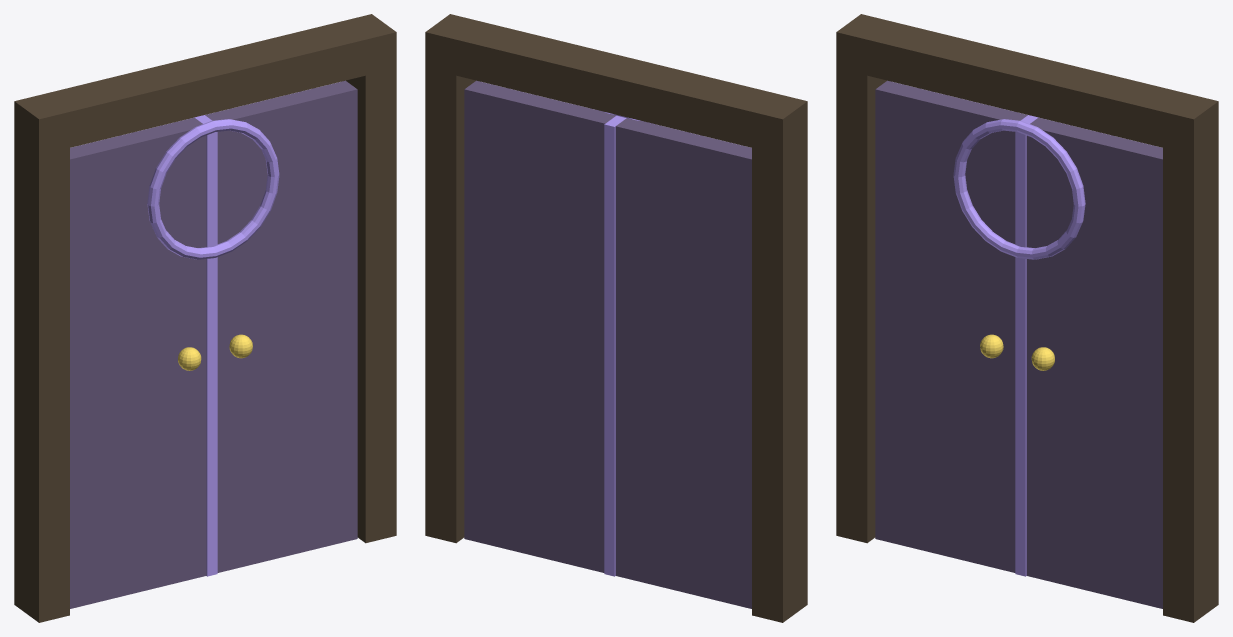
The model's file is sanctum_door.fbx.
3 views of the same model, side by side, from view 1: azimuth 30°, elevation 25°; view 2: azimuth 150°, elevation 25°; view 3: azimuth 330°, elevation 25° (orthographic).
Parts seen in each view (by area): view 1: sanctum_door; view 2: sanctum_door; view 3: sanctum_door.
Boxes of the visible parts, x1,y1,x2,y2 form: sanctum_door: (14, 14, 396, 622); sanctum_door: (425, 14, 807, 622); sanctum_door: (836, 14, 1218, 622).
Bounding box in the file's own units: 2.08 × 2.8 × 0.285.
